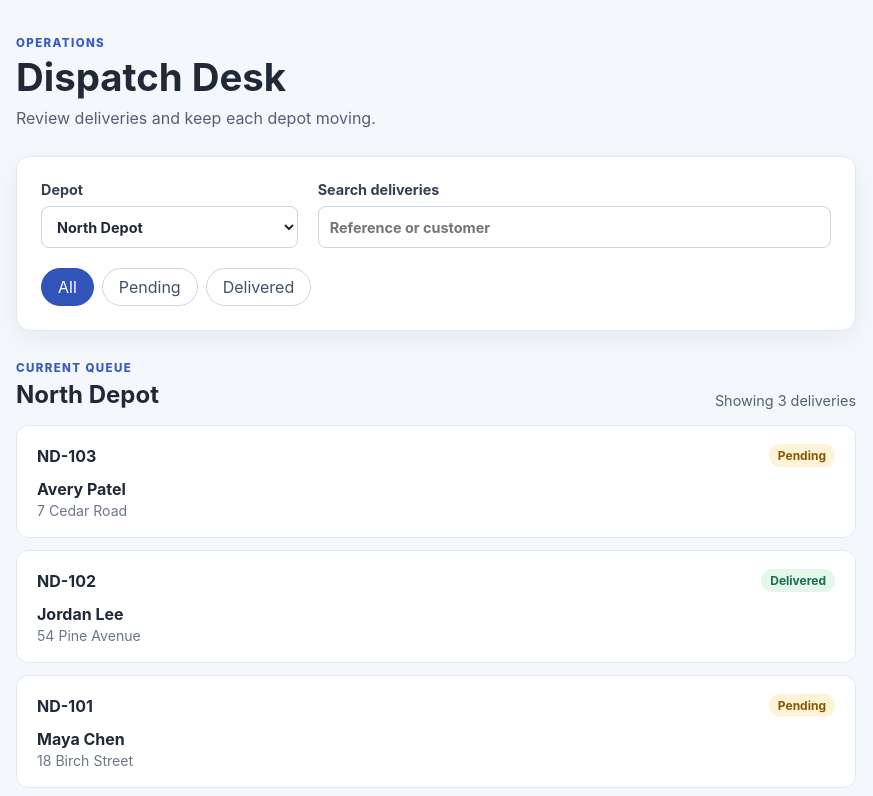
dispatch dashboard › keeps an active search term when switching depots
Type "SD-" into the search field labelled "Search deliveries" at (574,227), box [318,206,831,248]
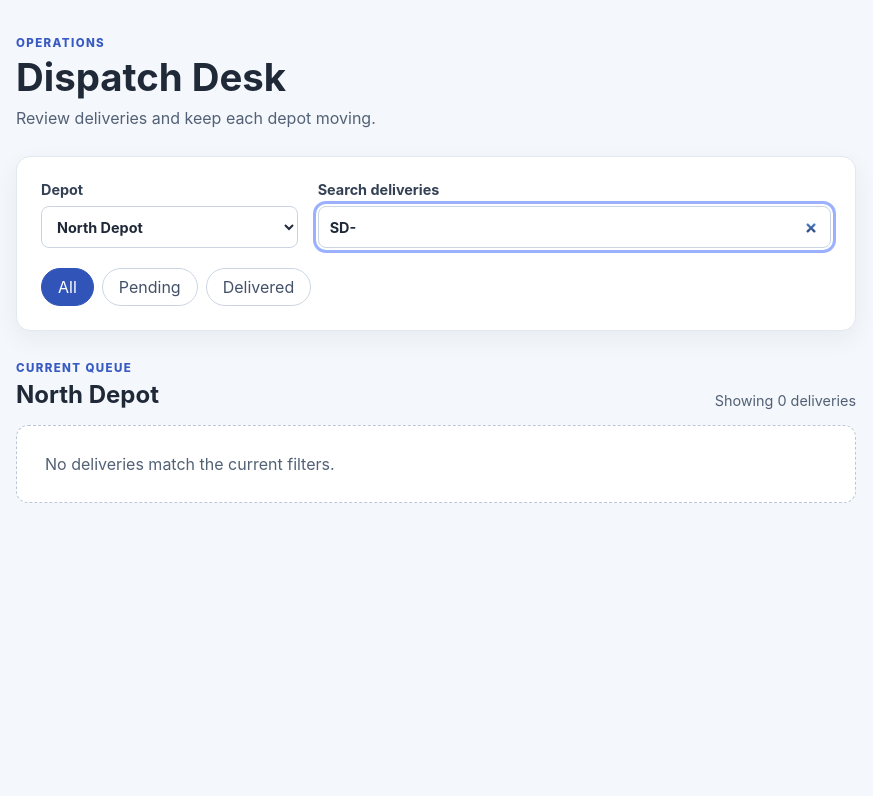
Select "South Depot" in the dropdown labelled "Depot" at (169,227), box [41,206,298,248]
(page scrolled)
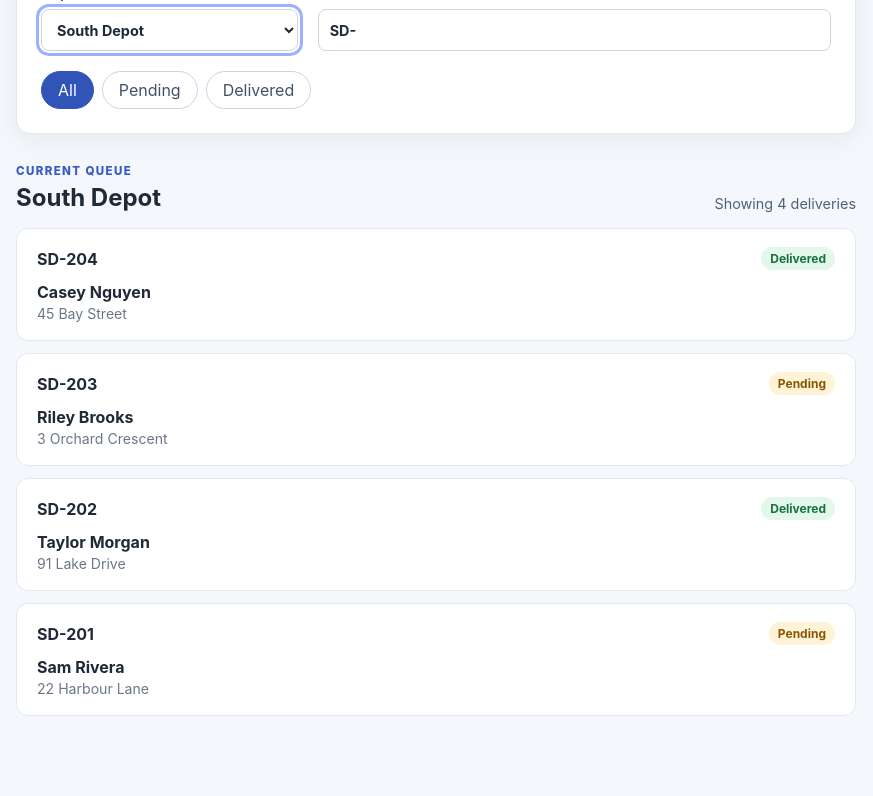
Check: the text "ND-101" is not shown
Check: the text "Showing 4 deliveries" is shown, box [714,195,856,212]
Check: the text "SD-201" is shown, box [37,624,94,644]
